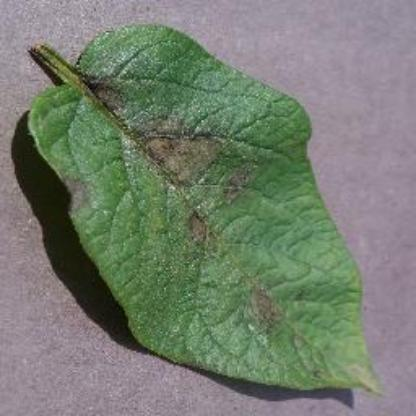Late-Blight: (18, 19, 386, 396)
